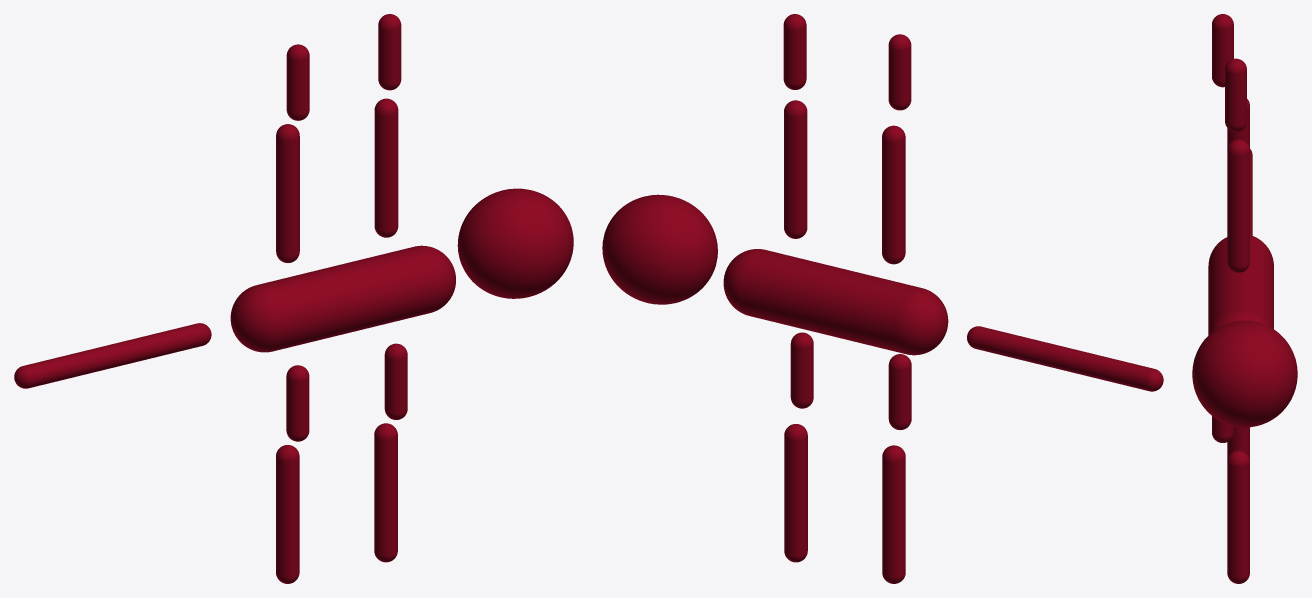
File: bicho.glb
3 views of the same model, side by side, from view 1: azimuth 30°, elevation 25°; view 2: azimuth 150°, elevation 25°; view 3: azimuth 270°, elevation 25° (orthographic). The views are drawn at different scales.
Parts seen in each view (by area): view 1: mesh_id41, mesh_id27, mesh_id70, mesh_id54, mesh_id43, mesh_id64, mesh_id59, mesh_id45, mesh_id60, mesh_id55, mesh_id65; view 2: mesh_id41, mesh_id27, mesh_id70, mesh_id43, mesh_id54, mesh_id59, mesh_id64, mesh_id45, mesh_id65, mesh_id55, mesh_id60; view 3: mesh_id27, mesh_id41, mesh_id54, mesh_id64, mesh_id55, mesh_id45, mesh_id59, mesh_id65, mesh_id43, mesh_id70.
Boxes of the visible parts, x1,y1,x2,y2 form: mesh_id41: (230, 245, 455, 352); mesh_id27: (457, 188, 573, 298); mesh_id70: (14, 323, 211, 388); mesh_id54: (374, 98, 398, 237); mesh_id43: (276, 124, 299, 262); mesh_id64: (374, 423, 397, 562); mesh_id59: (276, 445, 299, 583); mesh_id45: (286, 44, 309, 120); mesh_id60: (286, 365, 309, 441); mesh_id55: (378, 14, 401, 90); mesh_id65: (384, 343, 407, 419); mesh_id41: (723, 249, 948, 355); mesh_id27: (602, 194, 717, 304); mesh_id70: (967, 326, 1163, 391); mesh_id43: (882, 125, 905, 264); mesh_id54: (784, 100, 807, 238); mesh_id59: (882, 445, 905, 583); mesh_id64: (784, 424, 807, 562); mesh_id45: (888, 34, 911, 110); mesh_id65: (790, 332, 813, 408); mesh_id55: (783, 14, 806, 89); mesh_id60: (888, 354, 911, 430); mesh_id27: (1192, 320, 1297, 427); mesh_id41: (1208, 235, 1273, 335); mesh_id54: (1227, 139, 1249, 272); mesh_id64: (1227, 450, 1249, 583); mesh_id55: (1225, 58, 1246, 131); mesh_id45: (1212, 14, 1233, 87); mesh_id59: (1227, 426, 1249, 459); mesh_id65: (1212, 416, 1233, 442); mesh_id43: (1227, 99, 1249, 148); mesh_id70: (1250, 149, 1252, 235).
Size of the model in its own units: 1.25 by 1.18 by 0.2159.
11 materials, 11 textured.
